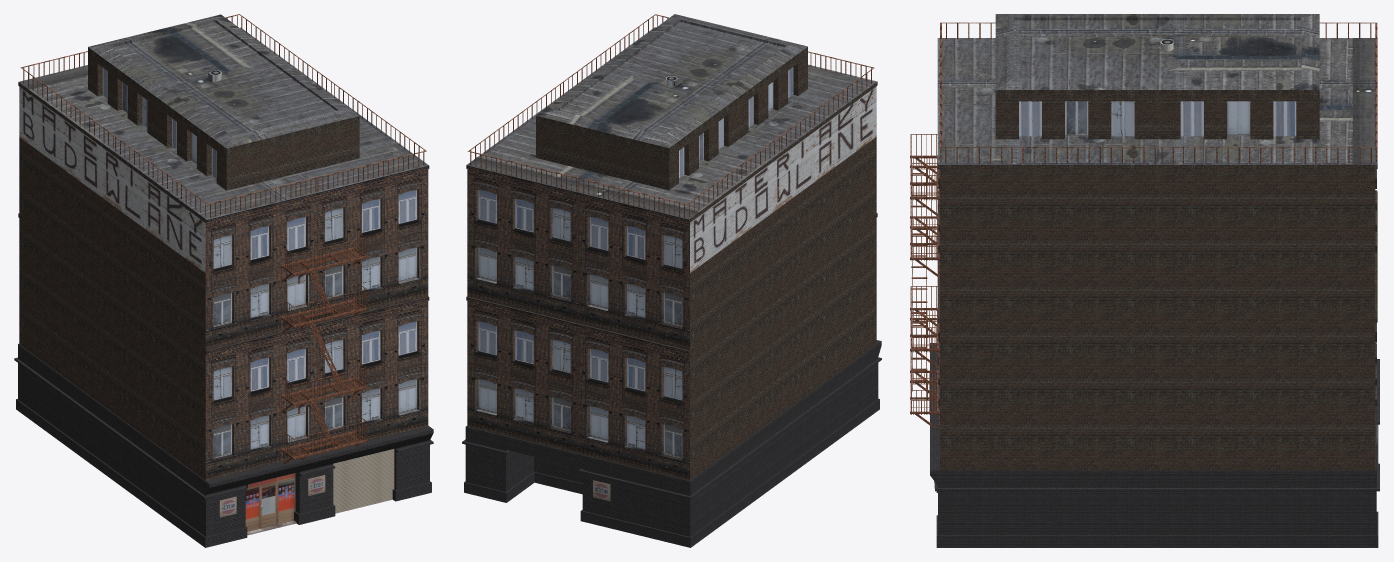
The model's file is Building_A13.obj.
3 renders of one model, left to right at view 1: azimuth 30°, elevation 25°; view 2: azimuth 150°, elevation 25°; view 3: azimuth 270°, elevation 25°, orthographic. The views are drawn at different scales.
Parts seen in each view (by area): view 1: K_Building_A13_00; view 2: K_Building_A13_00; view 3: K_Building_A13_00.
Boxes of the visible parts, bbox=[...] form: K_Building_A13_00: bbox=[14, 14, 433, 547]; K_Building_A13_00: bbox=[462, 14, 881, 547]; K_Building_A13_00: bbox=[910, 14, 1379, 547].
Size of the model in its own units: 11.41 by 17.93 by 17.38.
